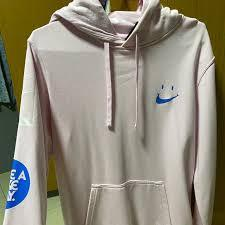sweater: (5, 3, 216, 225)
